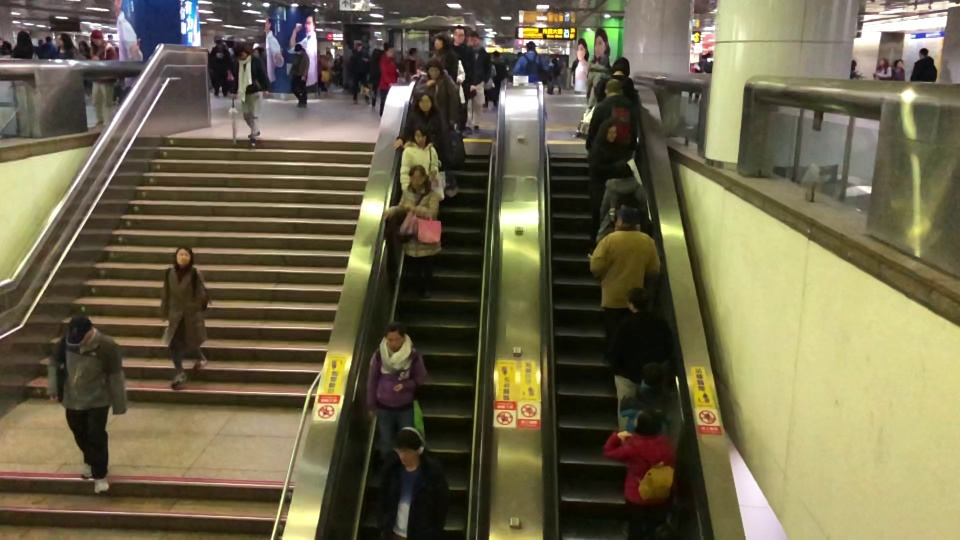person_head: (392, 426, 424, 469), (66, 313, 94, 347), (631, 407, 661, 437), (383, 321, 404, 351), (625, 286, 649, 310), (641, 363, 665, 383), (614, 207, 636, 228), (174, 245, 194, 268), (425, 57, 444, 80), (408, 164, 427, 187), (610, 56, 632, 75), (600, 119, 617, 142), (603, 78, 622, 97), (412, 124, 428, 146), (612, 160, 632, 177), (417, 90, 432, 111), (55, 32, 73, 49), (432, 31, 448, 50), (89, 29, 104, 45), (453, 25, 466, 42), (17, 30, 31, 45), (467, 32, 481, 47), (233, 45, 249, 58), (384, 42, 394, 56), (293, 43, 304, 54), (526, 40, 537, 51), (597, 54, 608, 65), (878, 56, 889, 67), (894, 58, 905, 68), (918, 47, 929, 57), (352, 43, 362, 53), (850, 59, 858, 71), (372, 48, 380, 59), (409, 47, 417, 57), (216, 38, 223, 46), (45, 35, 52, 42), (706, 52, 711, 58), (701, 54, 705, 59)
person_vbox: (46, 313, 128, 493), (589, 207, 661, 362), (602, 407, 677, 538), (365, 320, 428, 460), (381, 164, 443, 301), (376, 427, 449, 540), (607, 286, 662, 433), (411, 56, 463, 198), (159, 245, 209, 392), (594, 159, 647, 244), (586, 119, 618, 259), (618, 362, 679, 435), (230, 45, 271, 149), (584, 78, 637, 151), (393, 91, 449, 160), (87, 29, 117, 127), (450, 25, 477, 133), (399, 124, 439, 193), (466, 33, 491, 137), (416, 31, 460, 81), (510, 40, 550, 83), (377, 41, 398, 119), (597, 56, 635, 97), (348, 43, 371, 105), (288, 44, 310, 107), (209, 37, 232, 97), (585, 53, 608, 107), (909, 47, 938, 83), (54, 32, 86, 60), (12, 30, 39, 61), (368, 47, 381, 109), (402, 47, 422, 75), (873, 56, 892, 79), (40, 34, 57, 58), (849, 59, 865, 80), (892, 58, 905, 80), (705, 52, 713, 73), (698, 53, 704, 72)
